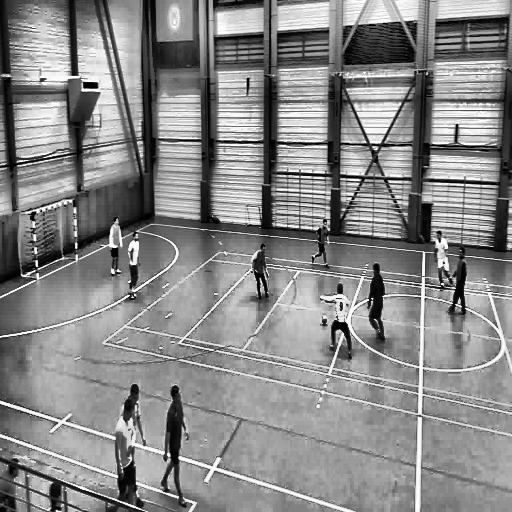ball: (320, 314, 330, 327)
player: (160, 384, 190, 509), (121, 384, 146, 508), (319, 282, 354, 361), (114, 399, 136, 507), (366, 261, 387, 345), (448, 245, 467, 317), (250, 243, 271, 303), (434, 230, 452, 291), (127, 229, 142, 301), (310, 218, 330, 270), (108, 214, 124, 278)
